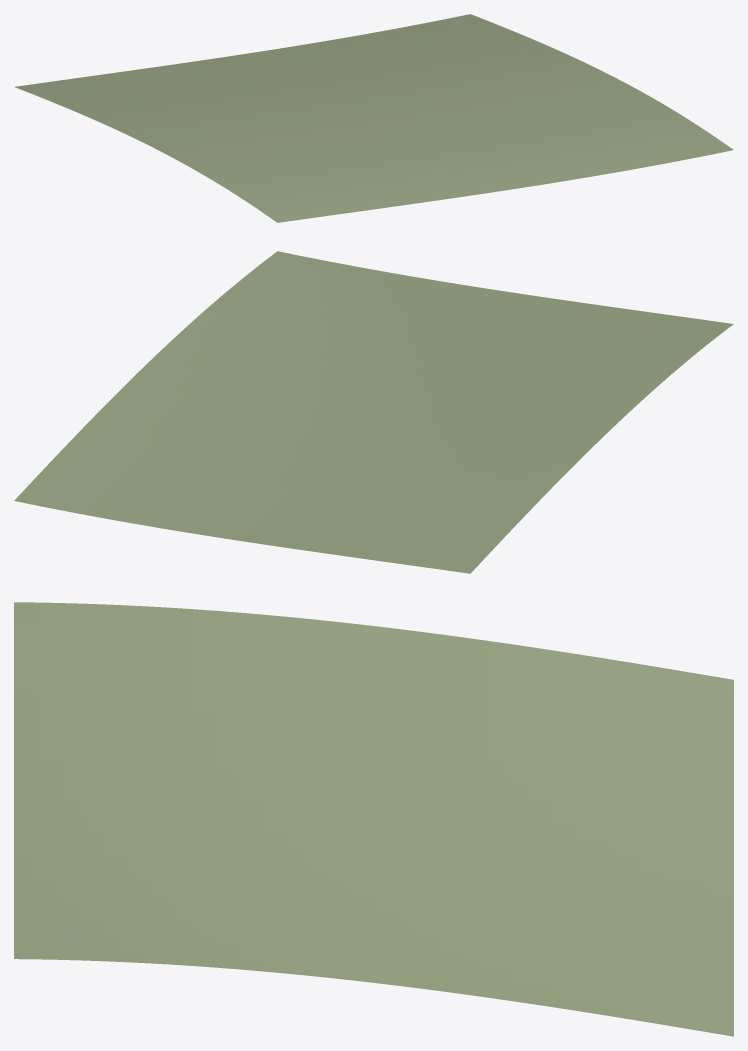
Rendered from valley-12-14.glb.
The picture shows the model from 3 angles, top to bottom: view 1: azimuth 30°, elevation 25°; view 2: azimuth 150°, elevation 25°; view 3: azimuth 270°, elevation 25°; orthographic projection. The views are drawn at different scales.
Visible parts, largest first — view 1: valley-12-14; view 2: valley-12-14; view 3: valley-12-14.
Part boxes in pixels (<box>): valley-12-14: <box>15,14,733,222</box>; valley-12-14: <box>14,251,733,573</box>; valley-12-14: <box>14,602,733,1036</box>.
Bounding box in the file's own units: 256 × 51.1 × 256.
